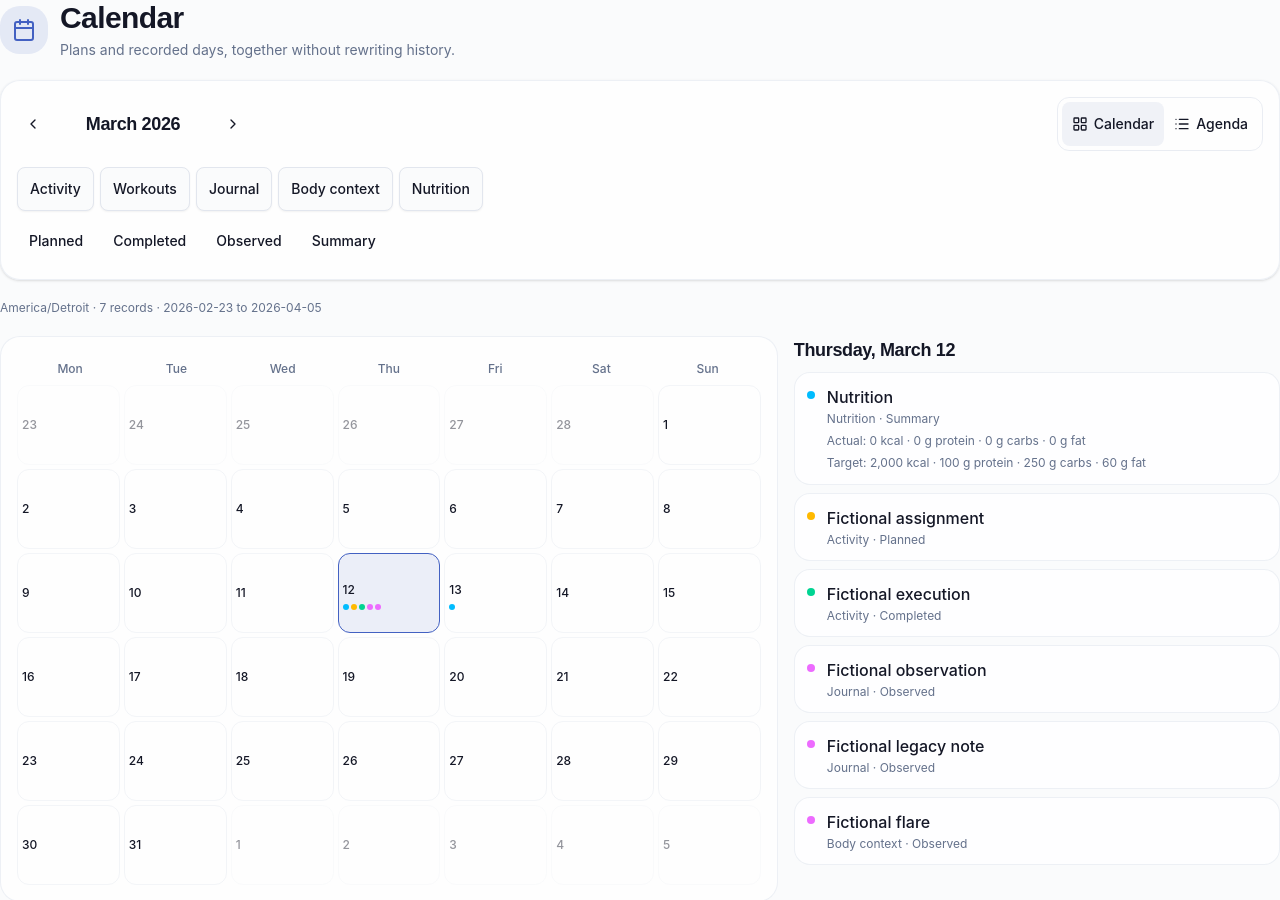
Calendar nutrition detail › shows all actual and target macros while preserving zero versus unknown
Click the button "Agenda" at coordinates (1211, 124), box [1164,102,1258,146]
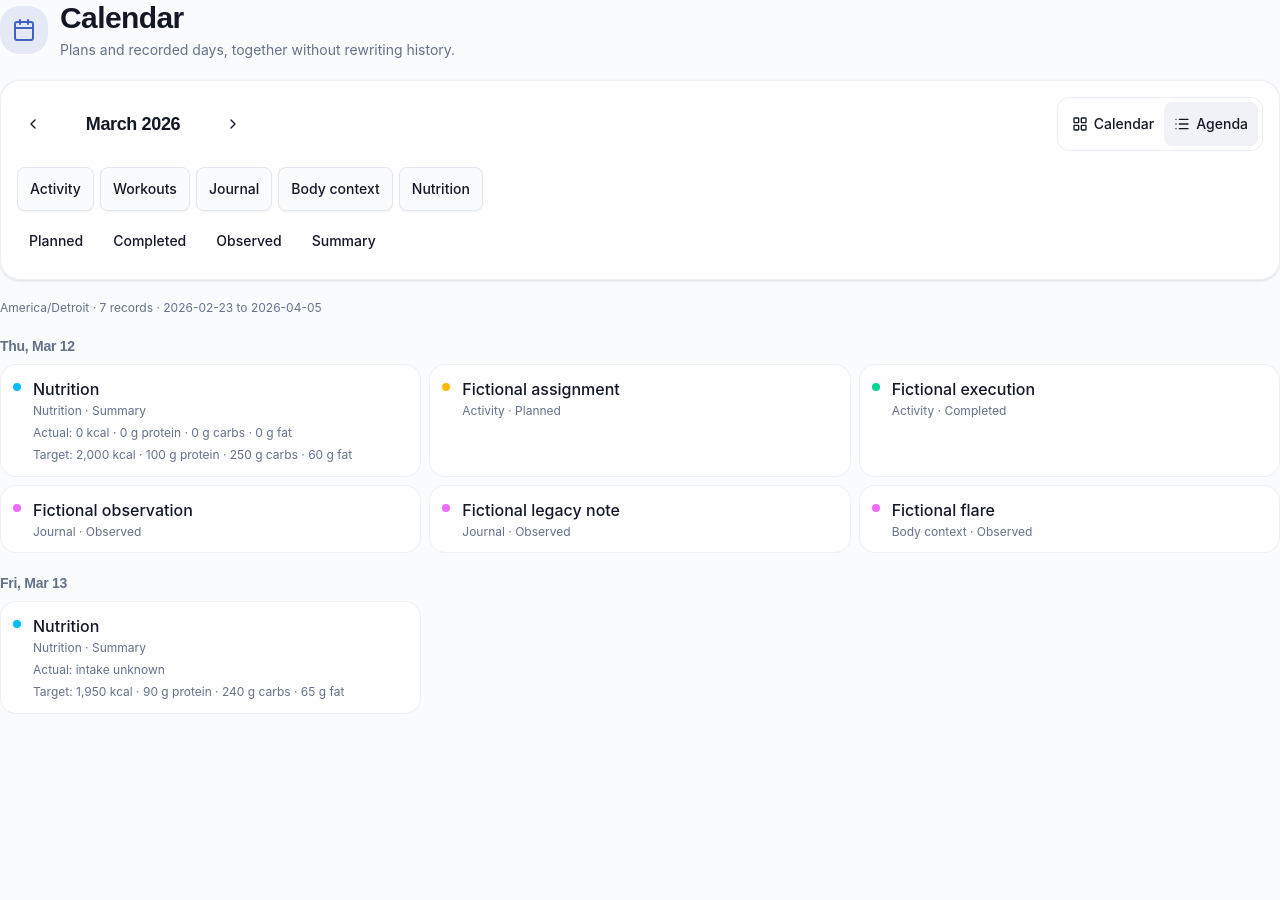
Expected: the text "Actual: 0 kcal · 0 g protein · 0 g carbs · 0 g fat" is shown, [33,425,292,440]
Now the text "Actual: intake unknown" is shown, box [33,662,165,677]
Now the text "Target: 1,950 kcal · 90 g protein · 240 g carbs · 65 g fat" is shown, box [33,684,344,698]
